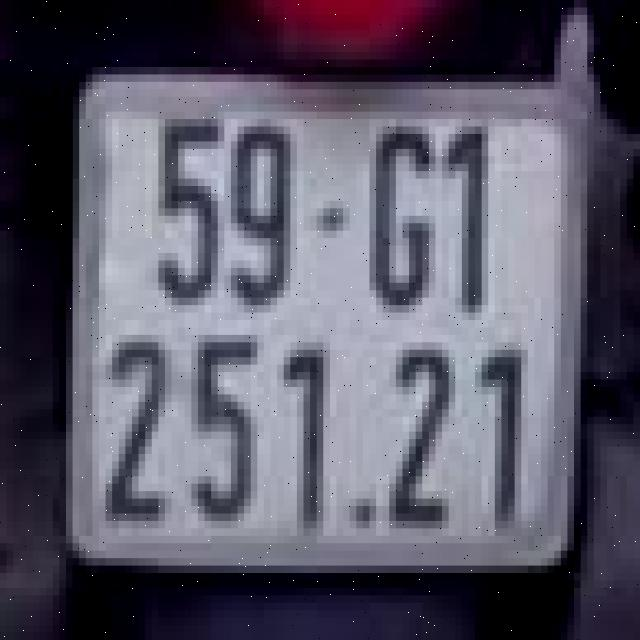1: (449, 119, 508, 328), (284, 331, 336, 540), (478, 342, 531, 536)
2: (96, 328, 175, 528), (386, 335, 459, 536)
5: (182, 324, 268, 532), (152, 108, 224, 309)
9: (231, 115, 303, 309)
G: (363, 119, 442, 313)
